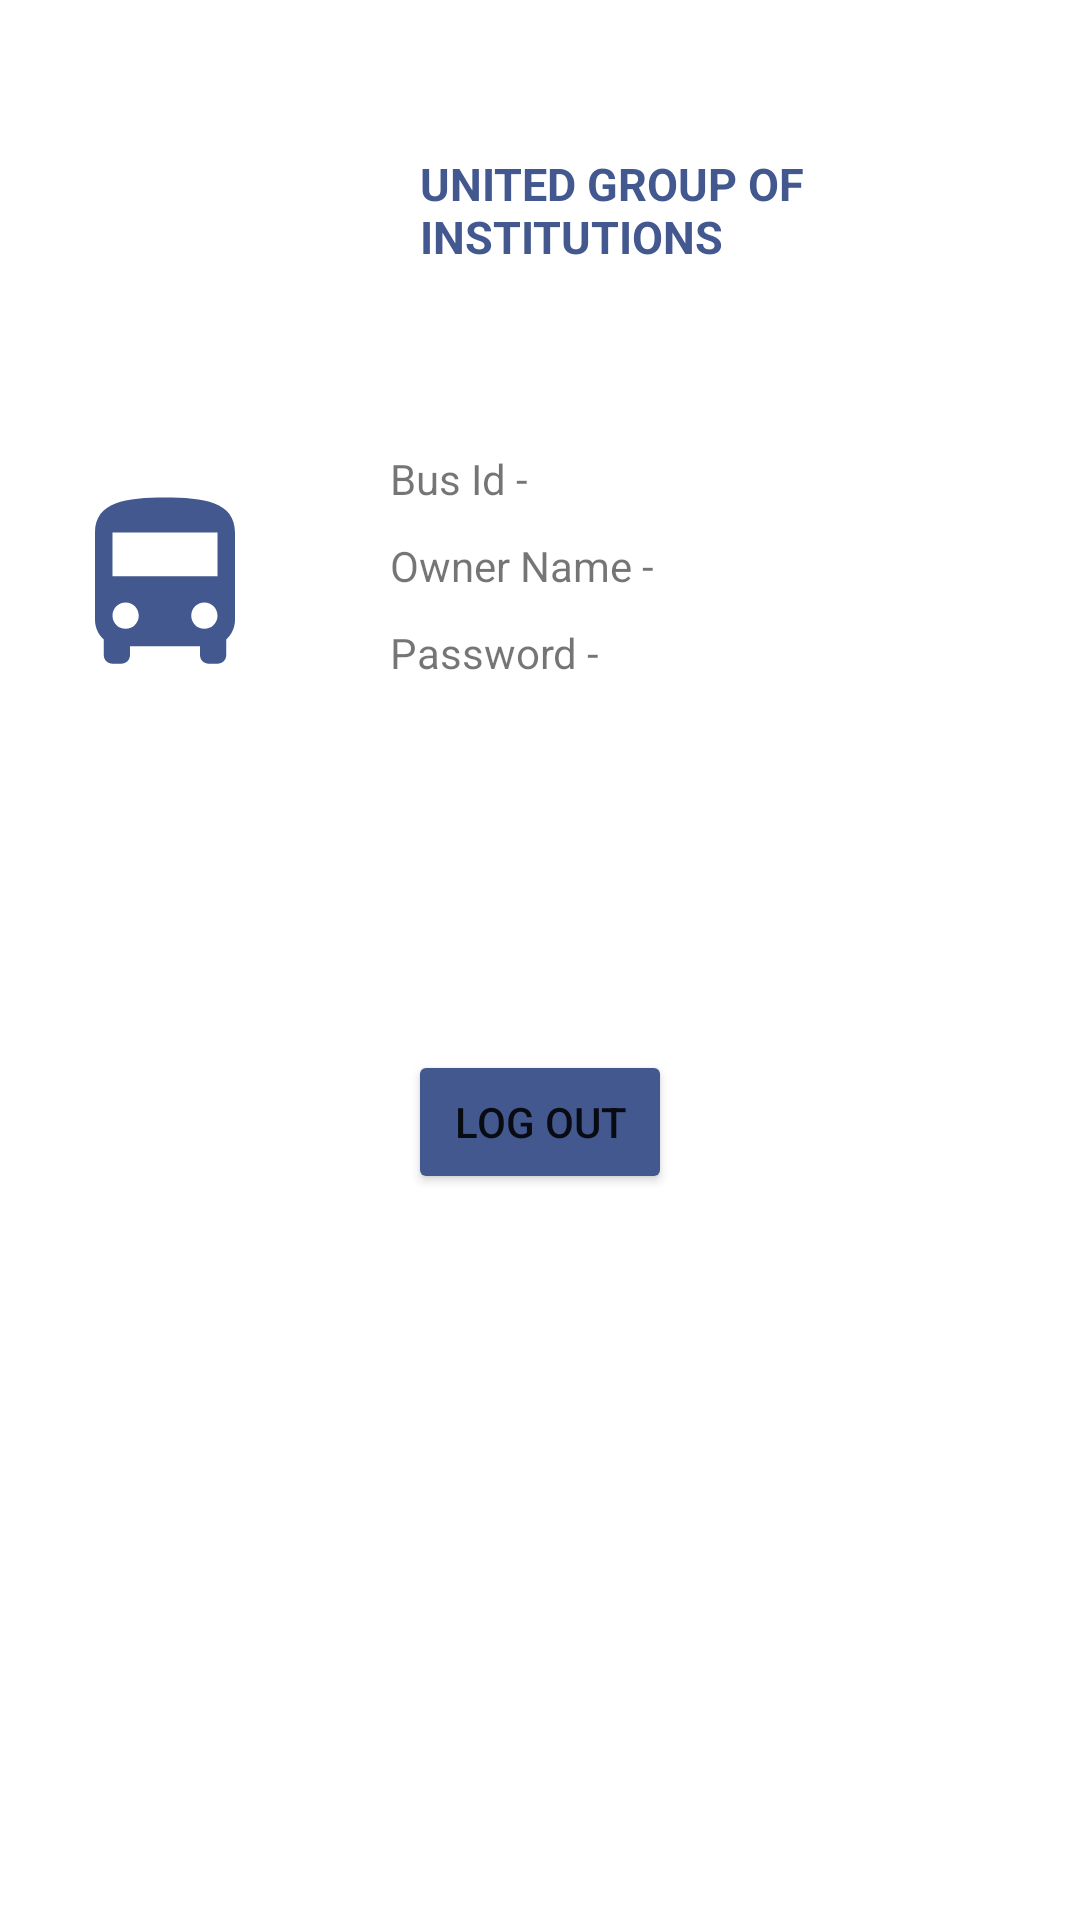

Named icons in this screenshot (1080×1920) and their centers, point (x, y):
directions bus: point (165, 580)
